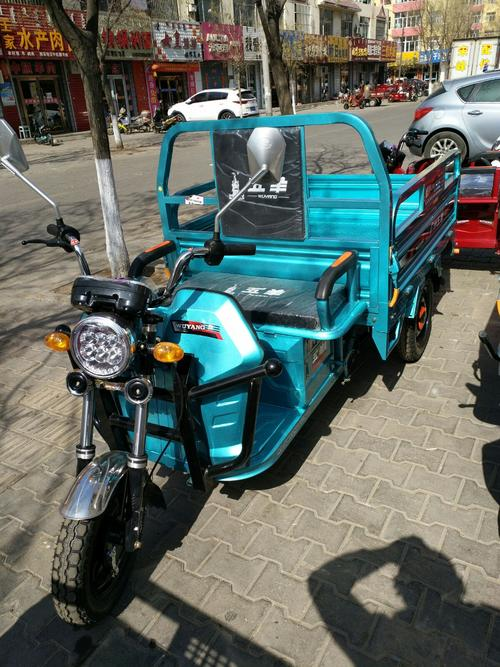empty: (14, 81, 460, 621)
